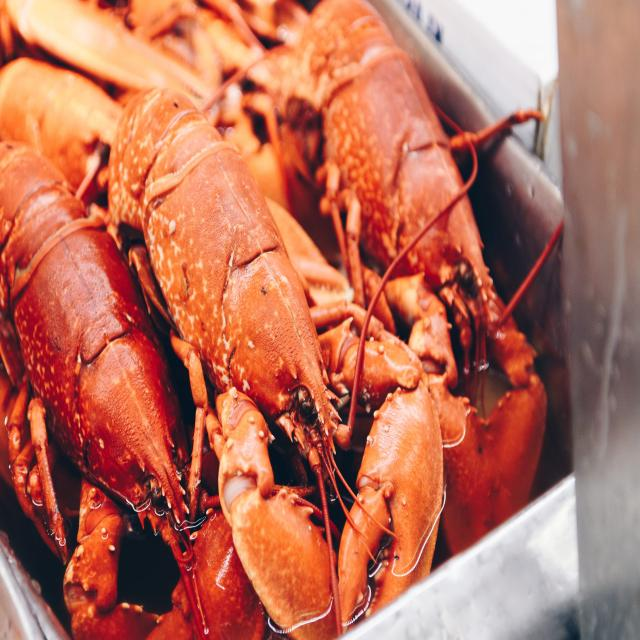Lobster: (109, 88, 444, 639), (269, 0, 559, 553), (0, 141, 265, 639)
